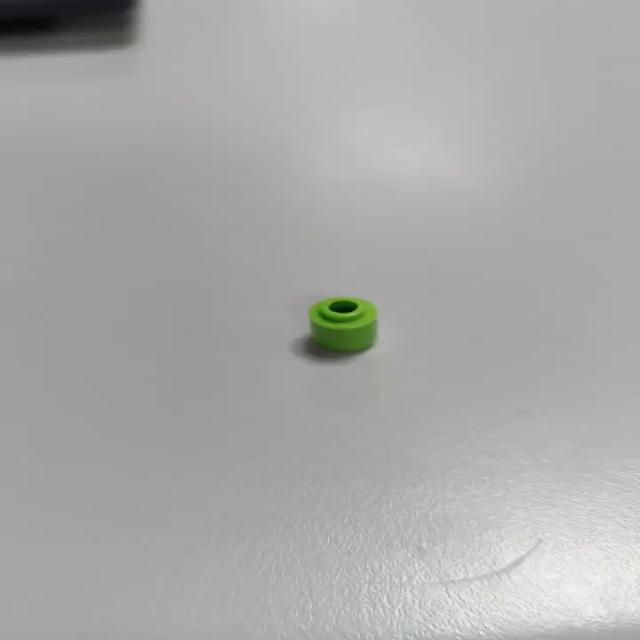S1x1x1: (296, 296, 383, 361)
